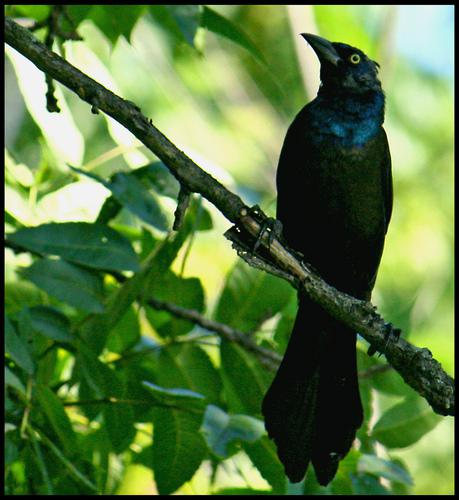009.Brewer_Blackbird: (263, 32, 394, 489)
